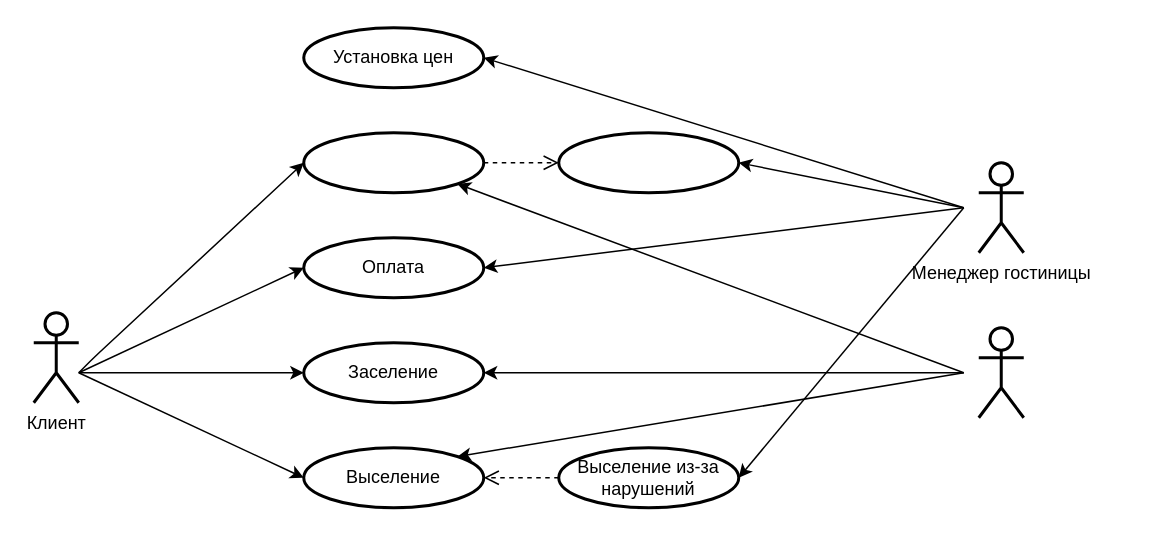
Some shapes in this 1154 by 534 pixel diagram are drawn without their labels. The shapes that lost their labels are listed below. From the top down, each one's centre as x and y in pixels, then its label:
[393,162]: Бронирование
[648,162]: Заключение договора
[1000,372]: Администратор на ресепшене
